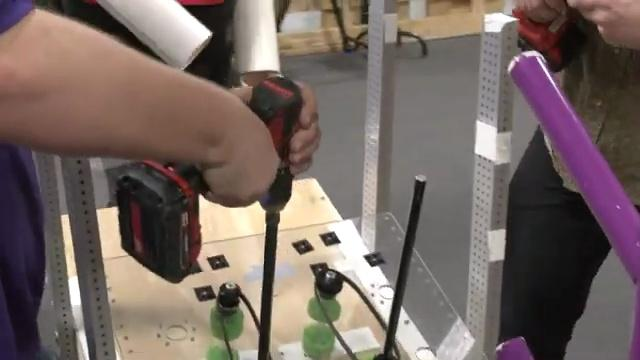CORAL: (95, 0, 213, 70)
